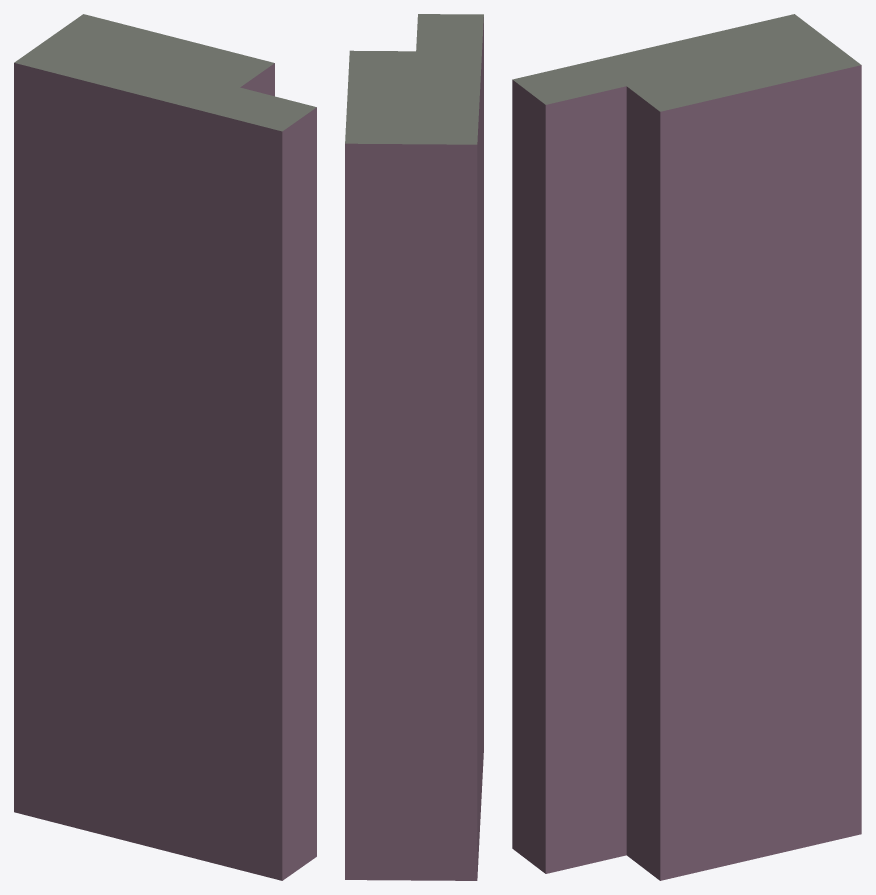
The model's file is nyc-1087857-0.glb.
3 views of the same model, side by side, from view 1: azimuth 30°, elevation 25°; view 2: azimuth 150°, elevation 25°; view 3: azimuth 270°, elevation 25° (orthographic). The views are drawn at different scales.
Parts seen in each view (by area): view 1: nyc-1087857-0; view 2: nyc-1087857-0; view 3: nyc-1087857-0.
Part boxes in pixels (x1,y1,x2,y2): nyc-1087857-0: (14, 14, 316, 880); nyc-1087857-0: (345, 14, 483, 880); nyc-1087857-0: (512, 14, 861, 880).
Bounding box in the file's own units: 24.2 × 88.7 × 36.5.
